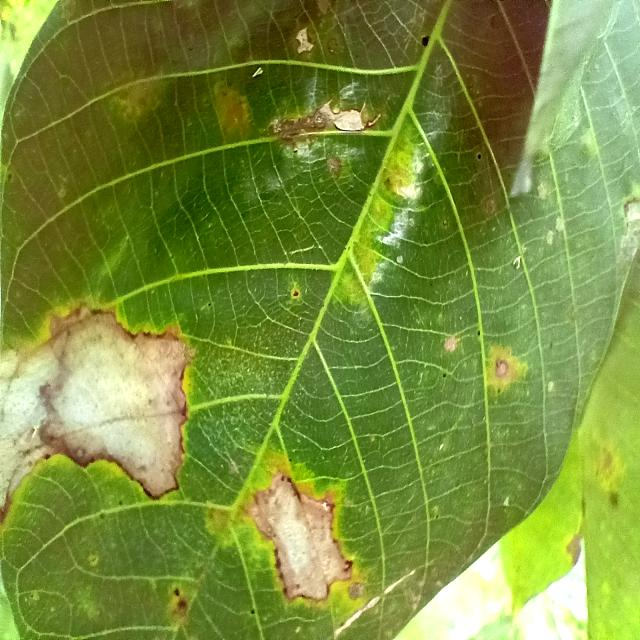Colletotrichum: (422, 35, 431, 48), (173, 587, 181, 596), (293, 290, 299, 297), (250, 608, 256, 614), (477, 154, 482, 160)
Leaf-Blight: (0, 308, 189, 525), (253, 477, 352, 601)
